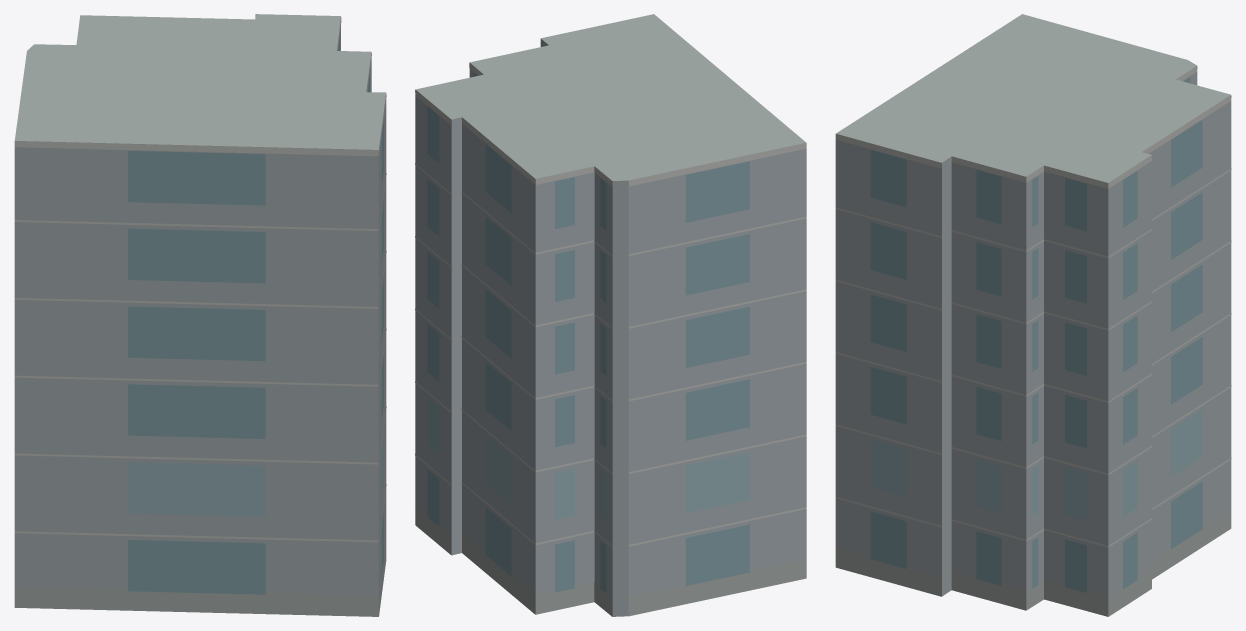
File: survey-upis-32788639.glb
The picture shows the model from 3 angles, left to right: view 1: azimuth 30°, elevation 25°; view 2: azimuth 150°, elevation 25°; view 3: azimuth 270°, elevation 25°; orthographic projection. The views are drawn at different scales.
Parts seen in each view (by area): view 1: survey-upis-32788639.tmp; view 2: survey-upis-32788639.tmp; view 3: survey-upis-32788639.tmp.
Boxes of the visible parts, left/top/right/bottom form: survey-upis-32788639.tmp: left=14, top=14, right=386, bottom=616; survey-upis-32788639.tmp: left=415, top=14, right=806, bottom=616; survey-upis-32788639.tmp: left=835, top=14, right=1231, bottom=616.
Size of the model in its own units: 14.89 by 17.8 by 14.73.
